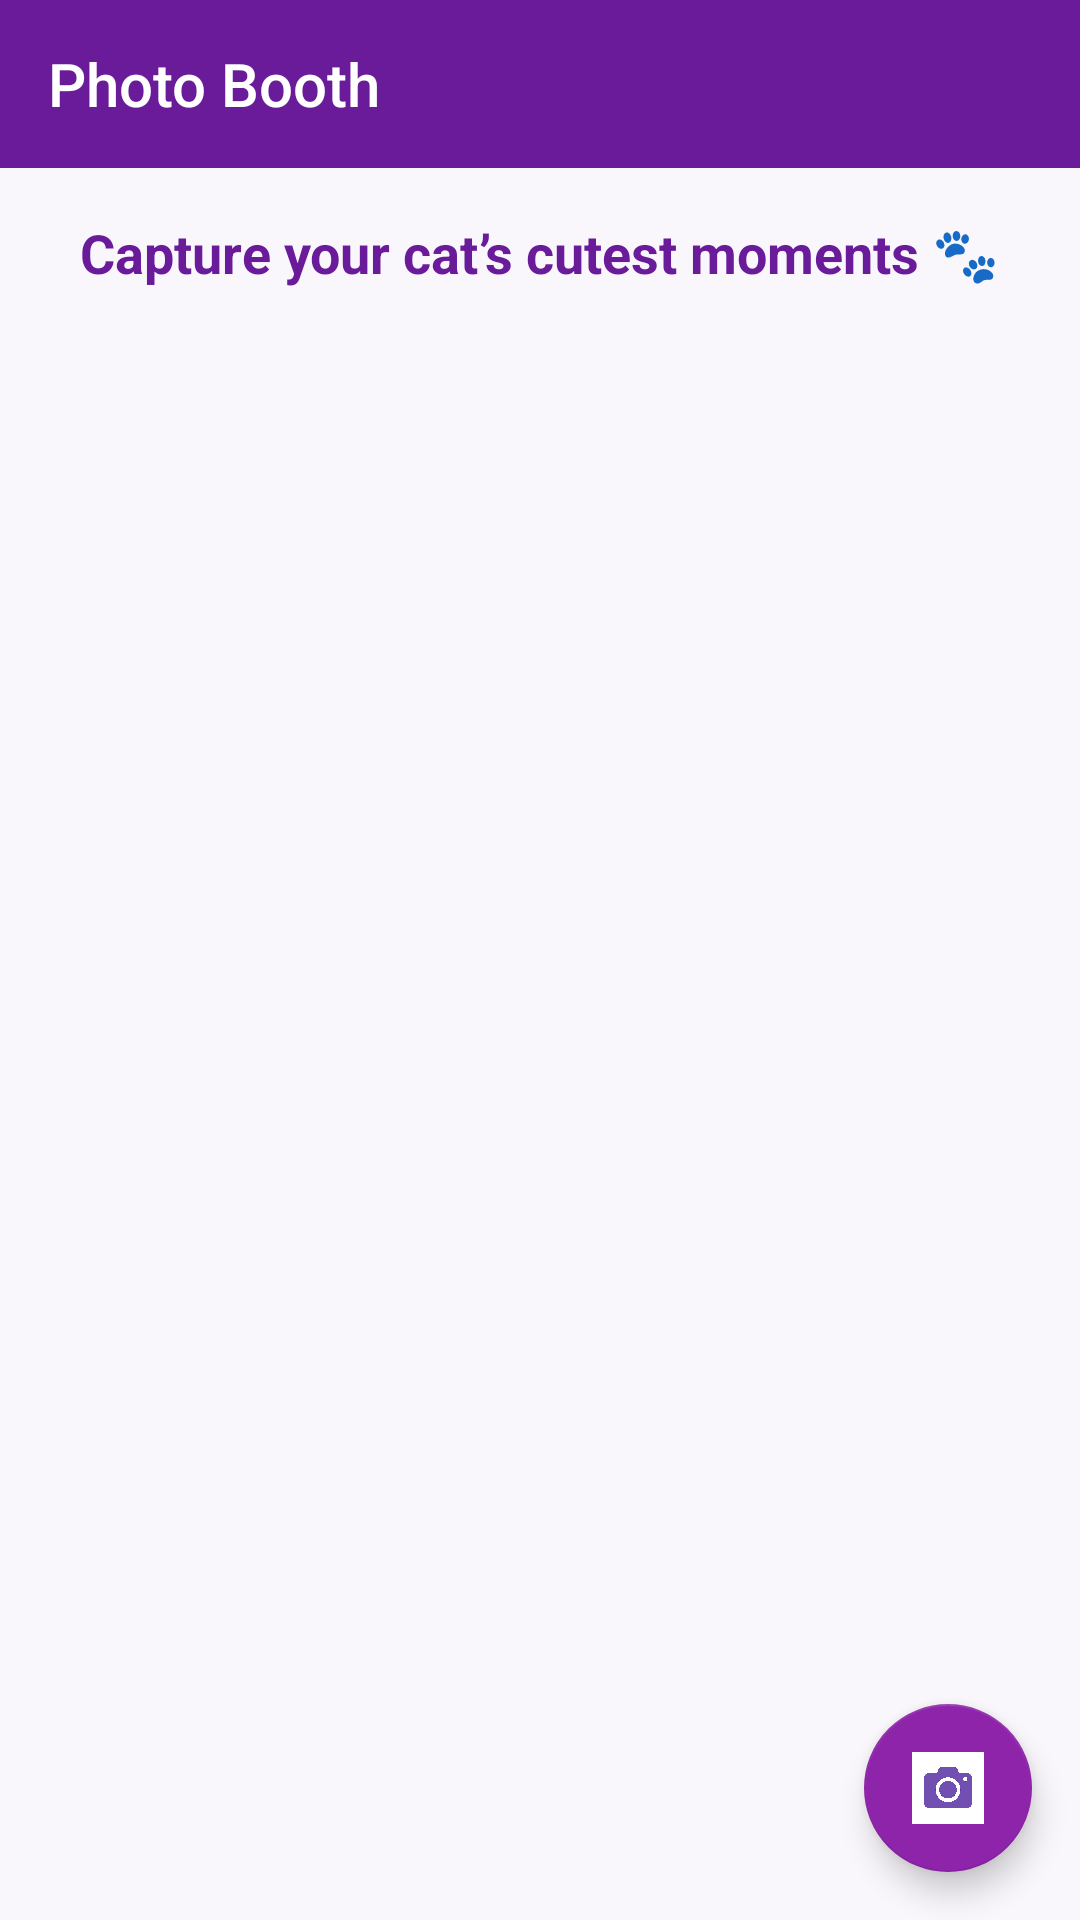

Where icons sit on this 1080×1920 app screen, as (x1, y1, x2, y2):
Take Photo: (864, 1704, 1032, 1872)
